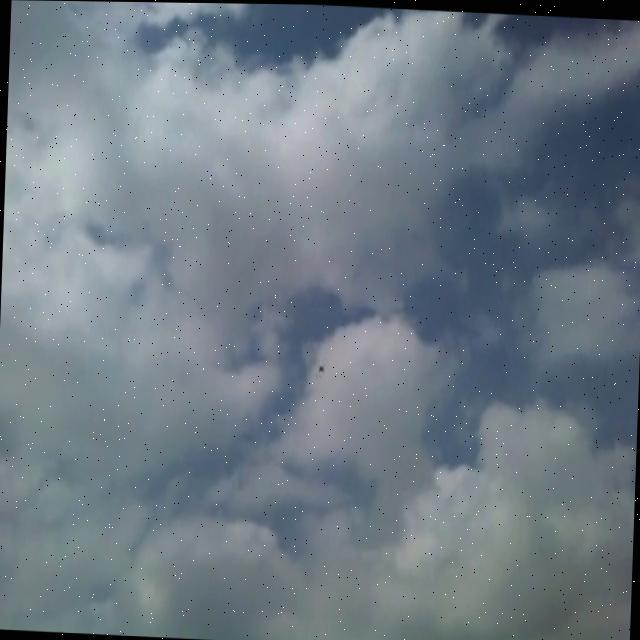drone: (315, 356, 326, 372)
